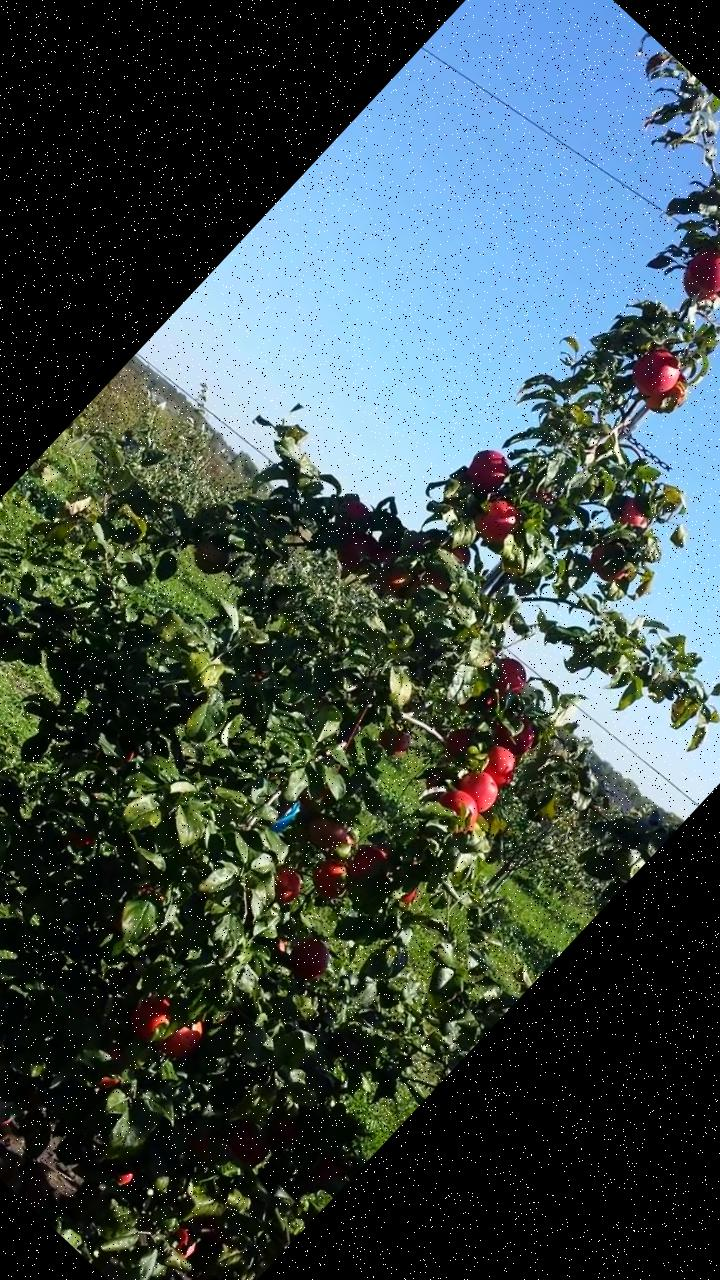Apple: (148, 1004, 219, 1076), (209, 1107, 280, 1179), (622, 338, 690, 407), (120, 981, 187, 1050), (464, 488, 530, 554), (276, 927, 342, 993), (337, 835, 402, 900), (636, 362, 700, 425), (455, 442, 516, 502), (580, 534, 640, 594), (488, 705, 546, 764), (428, 782, 486, 841), (170, 1116, 229, 1174), (254, 1107, 312, 1164), (301, 851, 358, 908), (478, 649, 534, 706), (432, 717, 488, 773), (296, 806, 352, 862), (453, 762, 508, 817), (333, 524, 387, 580), (299, 1144, 353, 1198), (260, 859, 312, 911), (185, 531, 236, 583), (326, 490, 378, 540), (679, 236, 719, 299), (670, 264, 719, 315), (474, 741, 524, 790), (368, 719, 416, 768), (368, 556, 415, 604), (88, 1035, 136, 1082), (380, 862, 427, 909), (610, 492, 657, 538), (432, 535, 478, 582), (99, 1152, 146, 1198), (158, 1222, 204, 1268), (86, 1063, 130, 1108), (412, 561, 456, 604), (58, 818, 100, 858), (107, 744, 146, 784), (264, 932, 296, 965), (369, 542, 401, 574), (471, 685, 501, 715)
